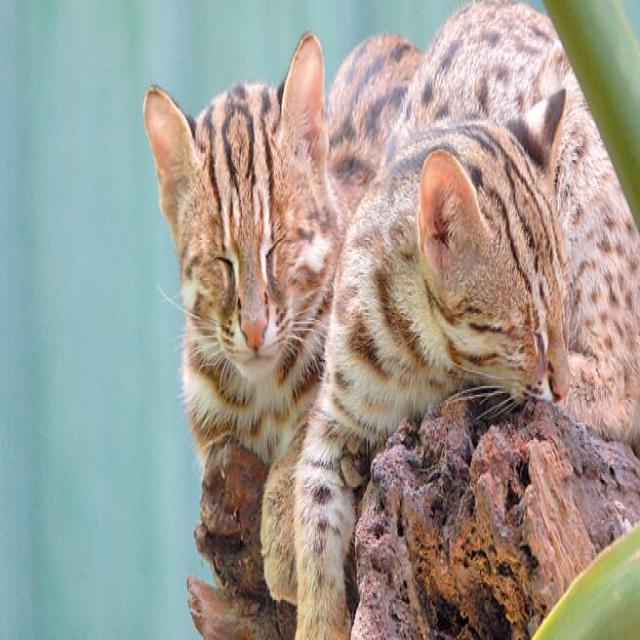leopard-cat: (351, 97, 583, 442), (121, 62, 347, 382)
